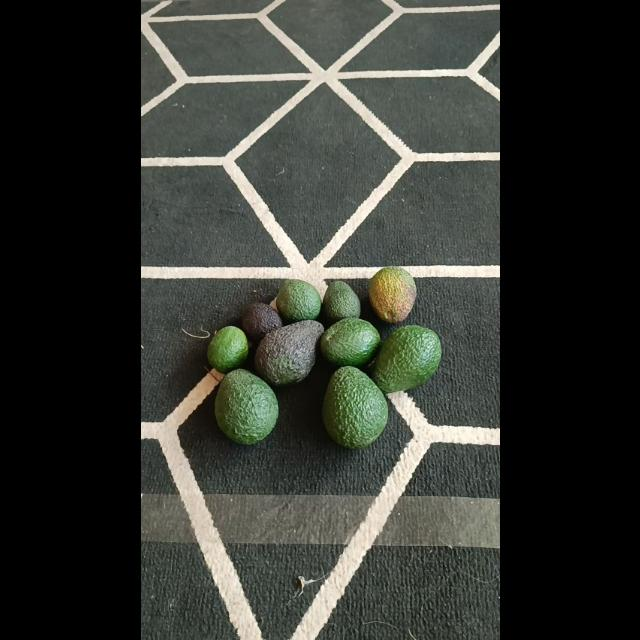Primera: (321, 366, 387, 446), (212, 368, 278, 444), (371, 324, 442, 394), (254, 320, 326, 386)
Segunda: (318, 316, 380, 368), (366, 266, 416, 322), (274, 278, 320, 322)
Tercera: (204, 324, 248, 374), (321, 280, 361, 322), (240, 302, 280, 343)
